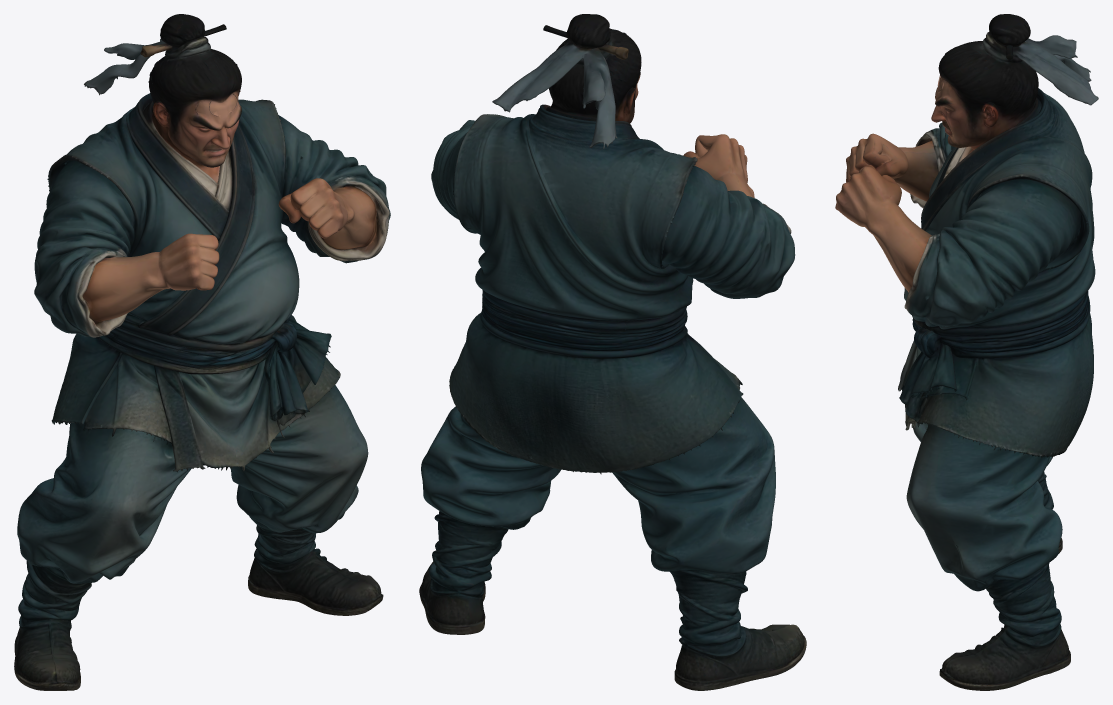
Rendered from syq_web.glb.
3 renders of one model, left to right at view 1: azimuth 30°, elevation 25°; view 2: azimuth 150°, elevation 25°; view 3: azimuth 270°, elevation 25°, orthographic. The views are drawn at different scales.
Parts seen in each view (by area): view 1: node_0; view 2: node_0; view 3: node_0.
Boxes of the visible parts, x1,y1,x2,y2 form: node_0: (14, 14, 390, 690); node_0: (419, 14, 806, 690); node_0: (835, 14, 1098, 690).
Bounding box in the file's own units: 0.6308 × 1.03 × 0.4141.
Materials: 1 (1 with a texture image).
